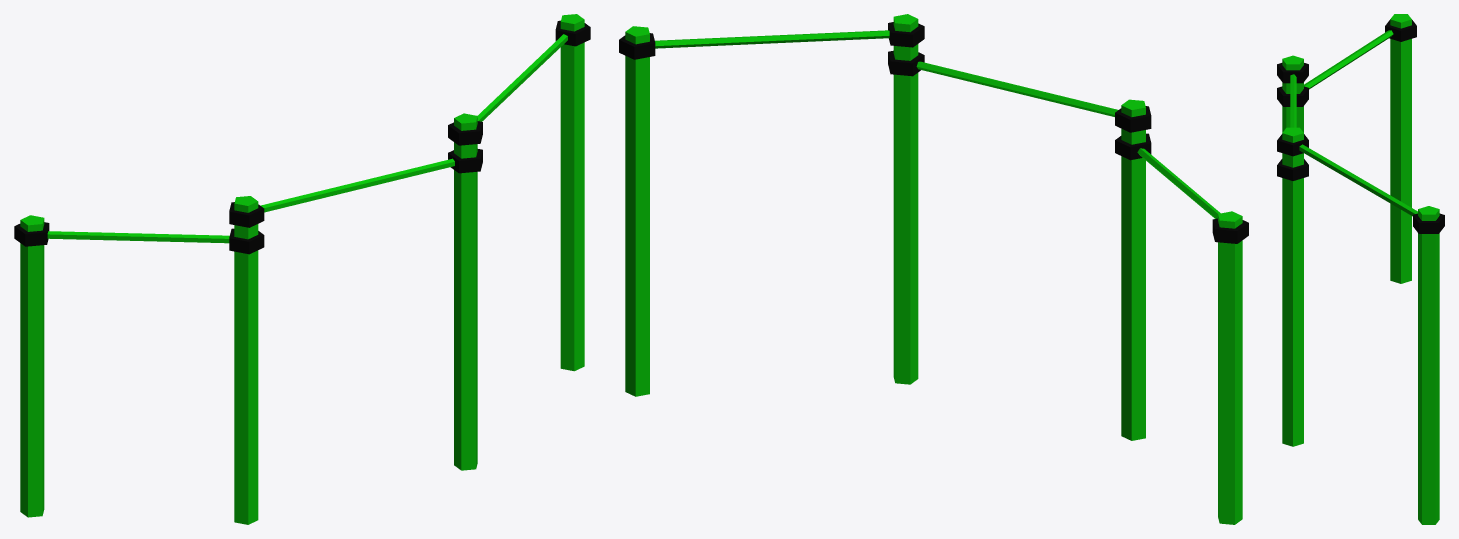
File: highbars_different_height.fbx
3 renders of one model, left to right at view 1: azimuth 30°, elevation 25°; view 2: azimuth 150°, elevation 25°; view 3: azimuth 270°, elevation 25°, orthographic. The views are drawn at different scales.
Parts seen in each view (by area): view 1: Cylinder.010, Cylinder, Cylinder.003, Cylinder.006, Cylinder.004, Cylinder.008, Cylinder.011; view 2: Cylinder.010, Cylinder, Cylinder.003, Cylinder.006, Cylinder.011, Cylinder.004, Cylinder.008; view 3: Cylinder.010, Cylinder, Cylinder.006, Cylinder.011, Cylinder.003, Cylinder.008, Cylinder.012, Cylinder.009, Cylinder.002, Cylinder.005, Cylinder.001, Cylinder.007 (+1 smaller).
Boxes of the visible parts, box(x1,y1,x2,y2) form: Cylinder.010: box(560, 14, 584, 371); Cylinder: box(454, 113, 477, 470); Cylinder.003: box(234, 196, 258, 524); Cylinder.006: box(20, 215, 44, 517); Cylinder.004: box(260, 158, 454, 212); Cylinder.008: box(47, 231, 229, 243); Cylinder.011: box(477, 34, 567, 121); Cylinder.010: box(625, 26, 649, 396); Cylinder: box(893, 14, 918, 384); Cylinder.003: box(1121, 99, 1145, 440); Cylinder.006: box(1218, 211, 1242, 524); Cylinder.011: box(655, 30, 889, 48); Cylinder.004: box(916, 61, 1117, 116); Cylinder.008: box(1137, 148, 1220, 218); Cylinder.010: box(1418, 206, 1439, 524); Cylinder: box(1282, 127, 1303, 446); Cylinder.006: box(1390, 14, 1411, 283); Cylinder.011: box(1299, 144, 1417, 216); Cylinder.003: box(1282, 55, 1303, 132); Cylinder.008: box(1304, 30, 1393, 89); Cylinder.012: box(1277, 159, 1308, 180); Cylinder.009: box(1413, 213, 1444, 233); Cylinder.002: box(1277, 63, 1308, 83); Cylinder.005: box(1385, 19, 1416, 41); Cylinder.001: box(1277, 134, 1308, 156); Cylinder.007: box(1277, 86, 1308, 106).
Size of the model in its own units: 1575 by 900 by 441.
